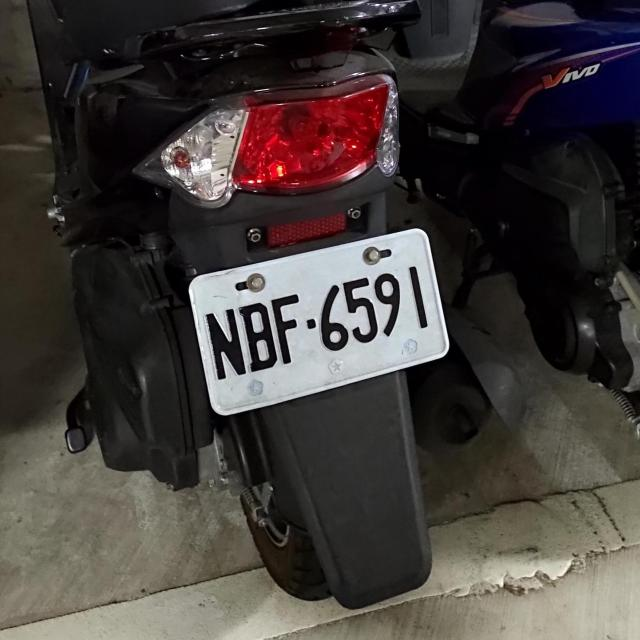W: (178, 226, 457, 414)
